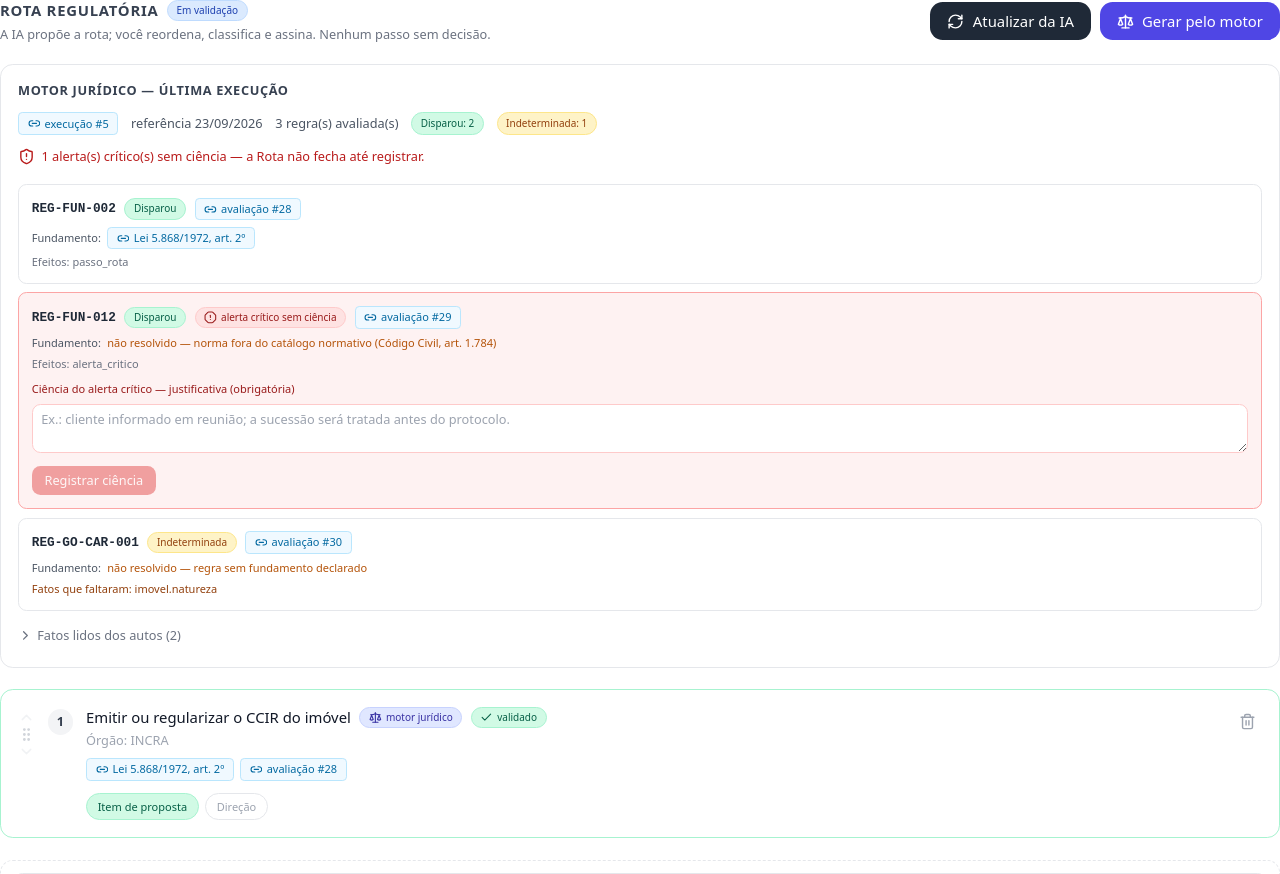
Test: Rota — motor jurídico (#278) › o fundamento do passo abre pelo ID e segue a cadeia
Click the button "Lei 5.868/1972, art. 2º" below "Órgão:" at point(160, 769), box [86,758,234,781]
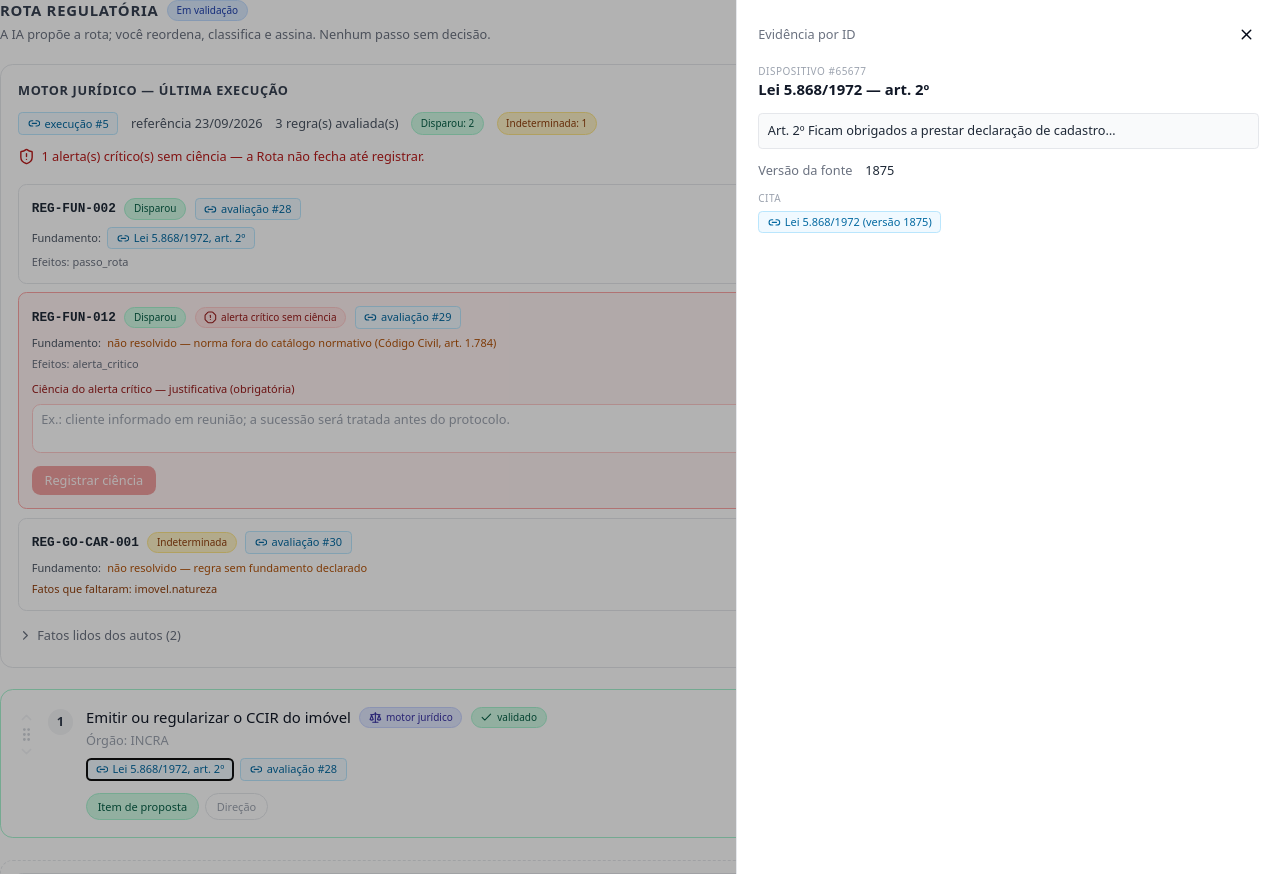
Check: the text "Art. 2º Ficam obrigados a prestar declaração de cadastro…" is shown, box [758,113,1259,149]
Click the button "Lei 5.868/1972 (versão 1875)" at point(850, 222), box [758,210,941,233]
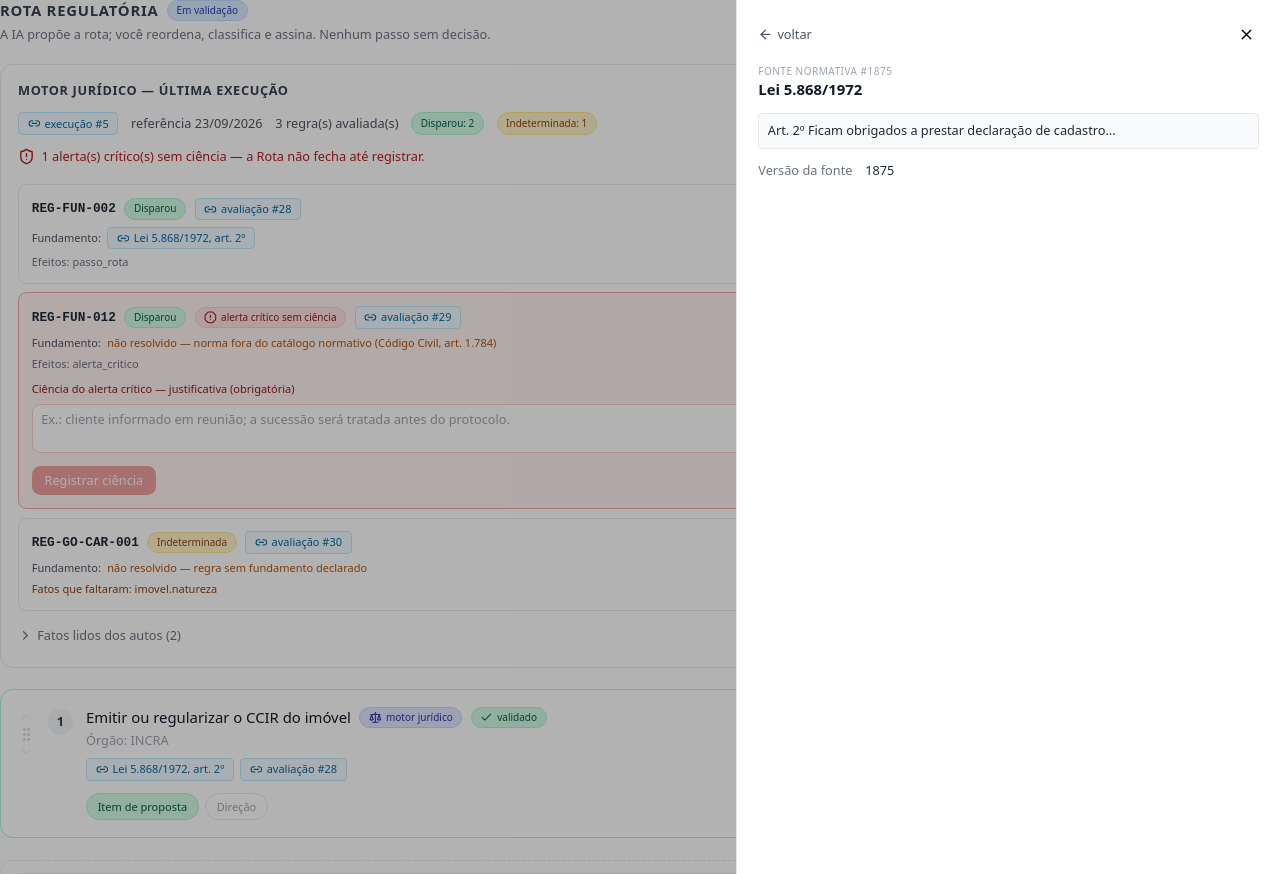
Check: the text "Lei 5.868/1972" is shown, box [758,79,862,99]
Click the button "voltar" at point(785, 34), box [758,26,812,42]
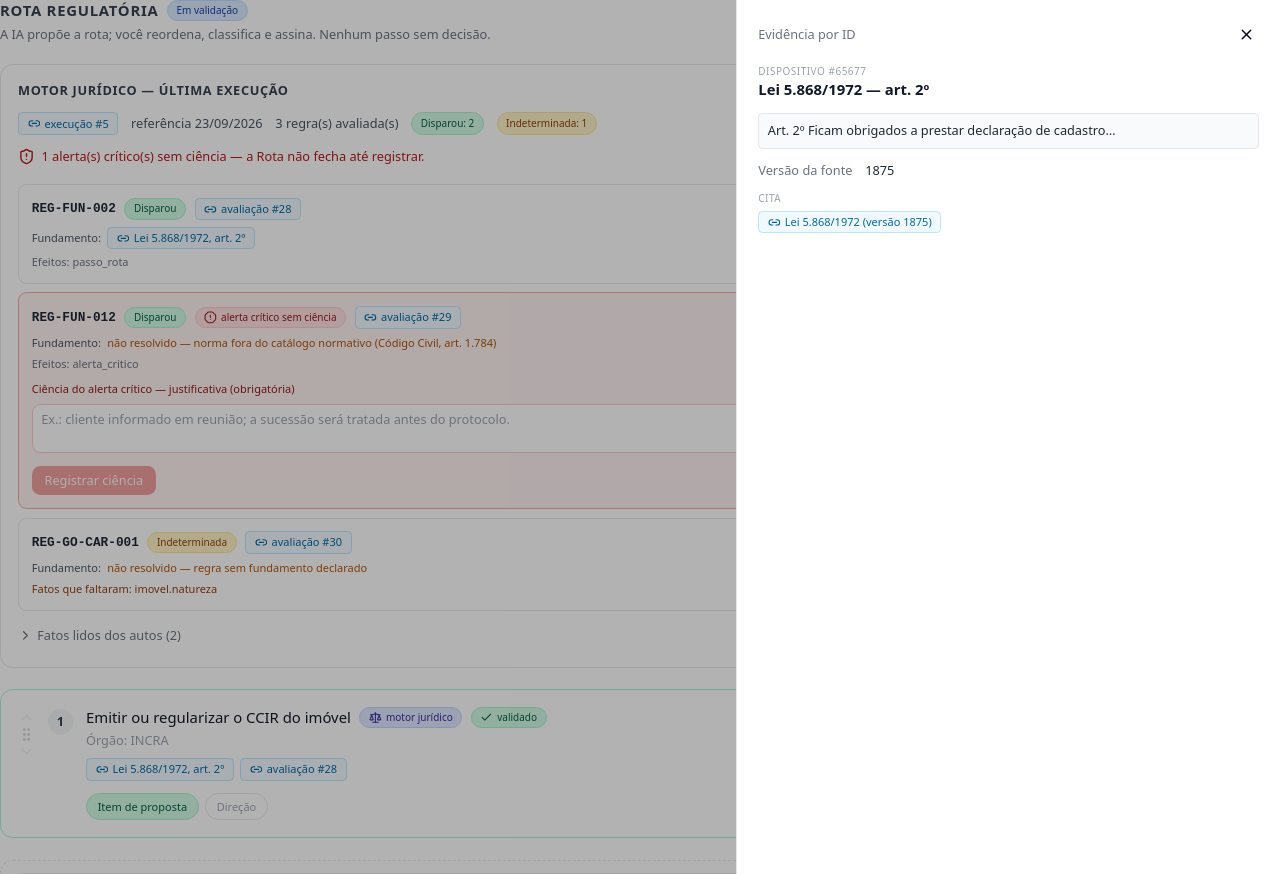
Check: the text "Lei 5.868/1972 — art. 2º" is shown, box [758,79,929,99]
